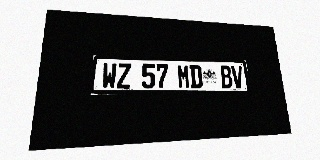5: (142, 64, 155, 89)
7: (155, 64, 169, 89)
B: (220, 66, 233, 88)
D: (189, 65, 203, 88)
M: (177, 65, 190, 88)
V: (231, 66, 244, 88)
W: (101, 63, 117, 89)
Z: (117, 63, 131, 89)
